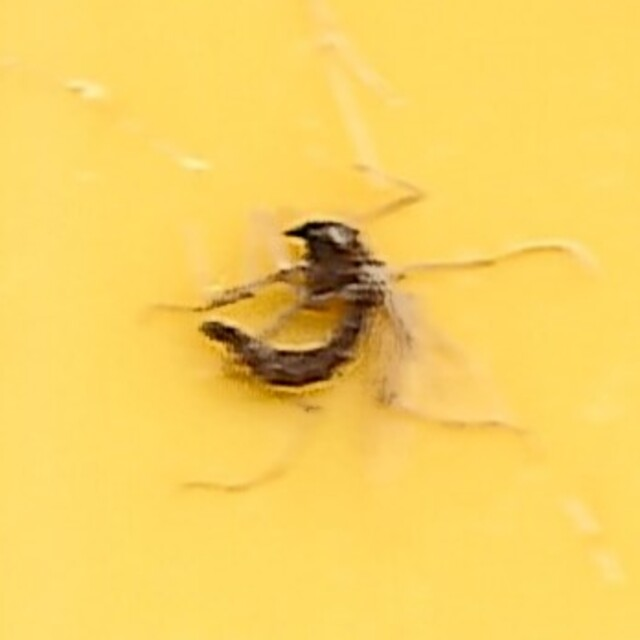Nematocera: (184, 203, 456, 437)
